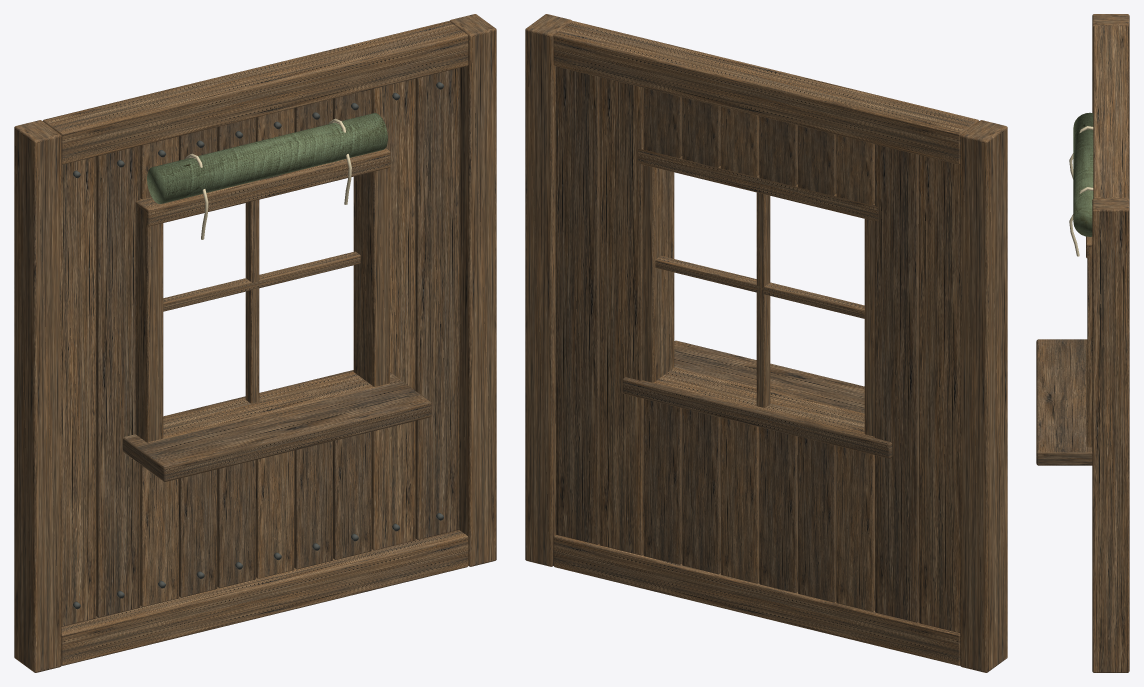
Rendered from wall_window_2m.glb.
3 renders of one model, left to right at view 1: azimuth 30°, elevation 25°; view 2: azimuth 150°, elevation 25°; view 3: azimuth 270°, elevation 25°, orthographic. The views are drawn at different scales.
Visible parts, largest first — view 1: wall_window_2m_mesh; view 2: wall_window_2m_mesh; view 3: wall_window_2m_mesh.
Part boxes in pixels (x1,y1,x2,y2): wall_window_2m_mesh: (14,14,496,672); wall_window_2m_mesh: (525,14,1007,672); wall_window_2m_mesh: (1036,14,1129,672).
Size of the model in its own units: 2 by 2.2 by 0.4.
5 materials, 3 textured.
